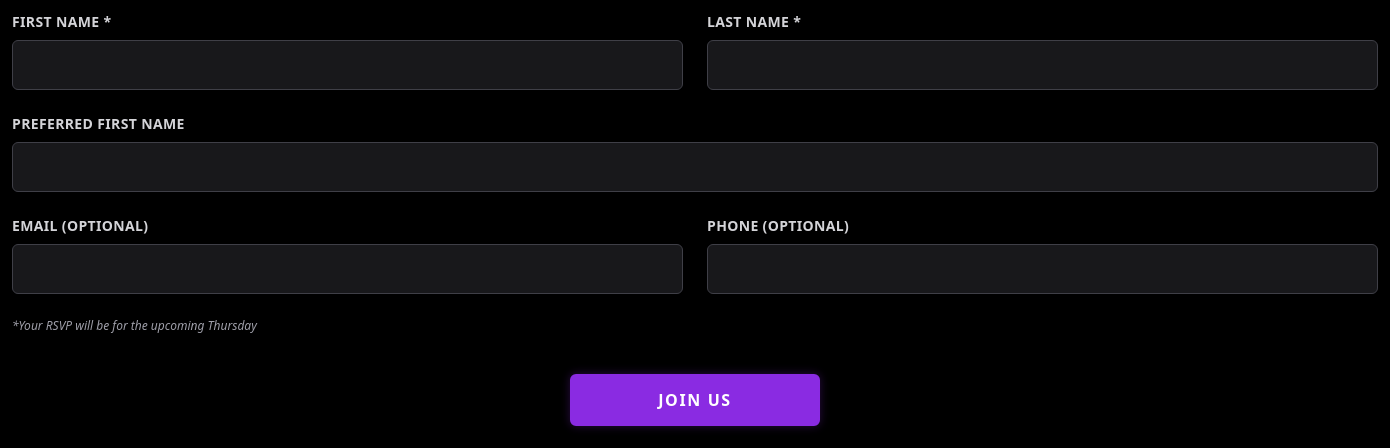
RsvpForm Component › handles submission errors gracefully
Type "Jane" into the field labelled "First Name *" at (348, 65), box [12,40,683,90]
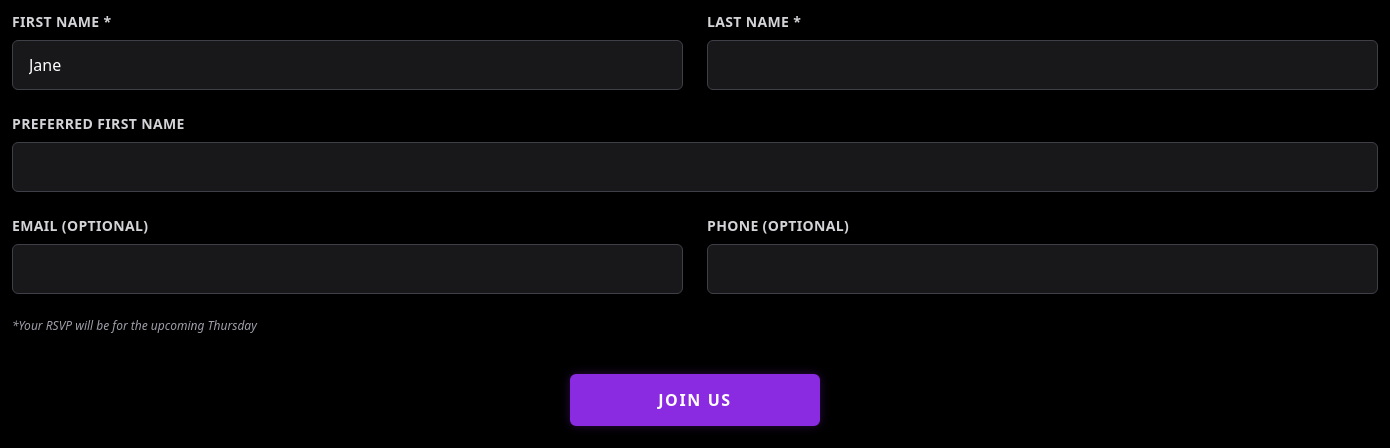
Type "Smith" into the field labelled "Last Name *" at (1042, 65), box [707,40,1378,90]
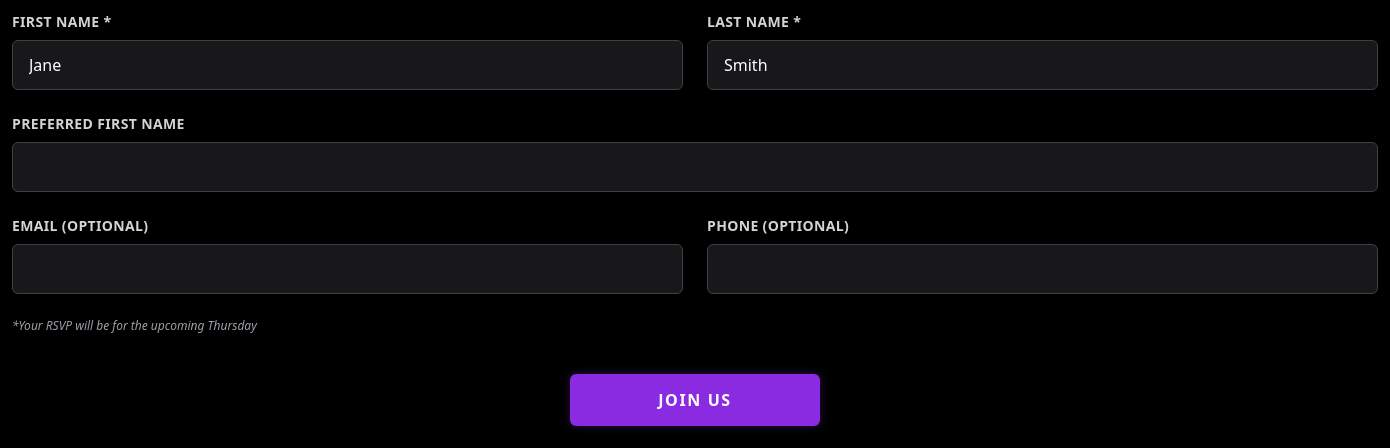
Click the button "Join Us" at (695, 400), box [570,374,820,426]
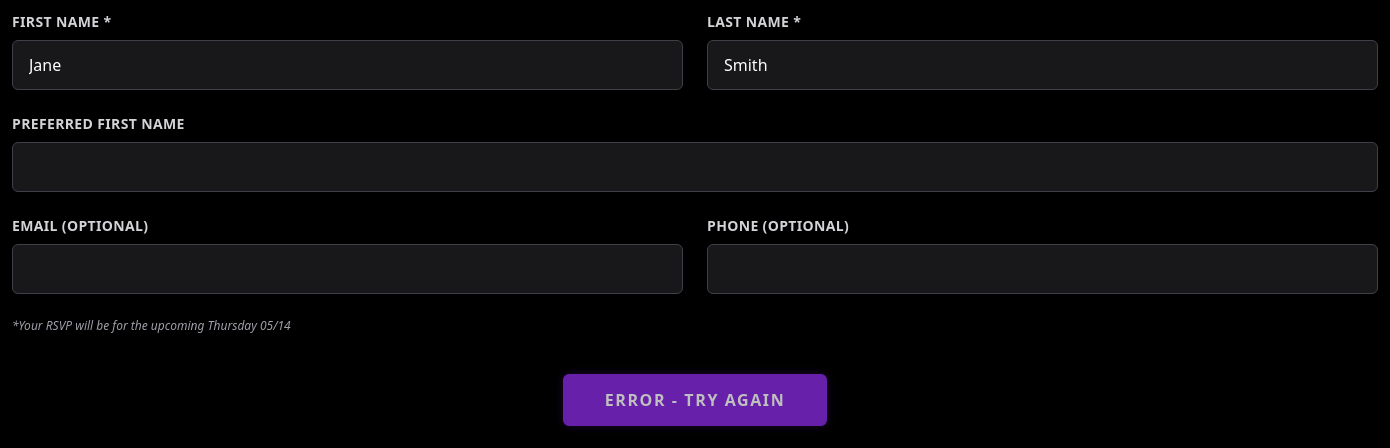
Now the button reads "Error - Try Again", box [563,374,827,426]
